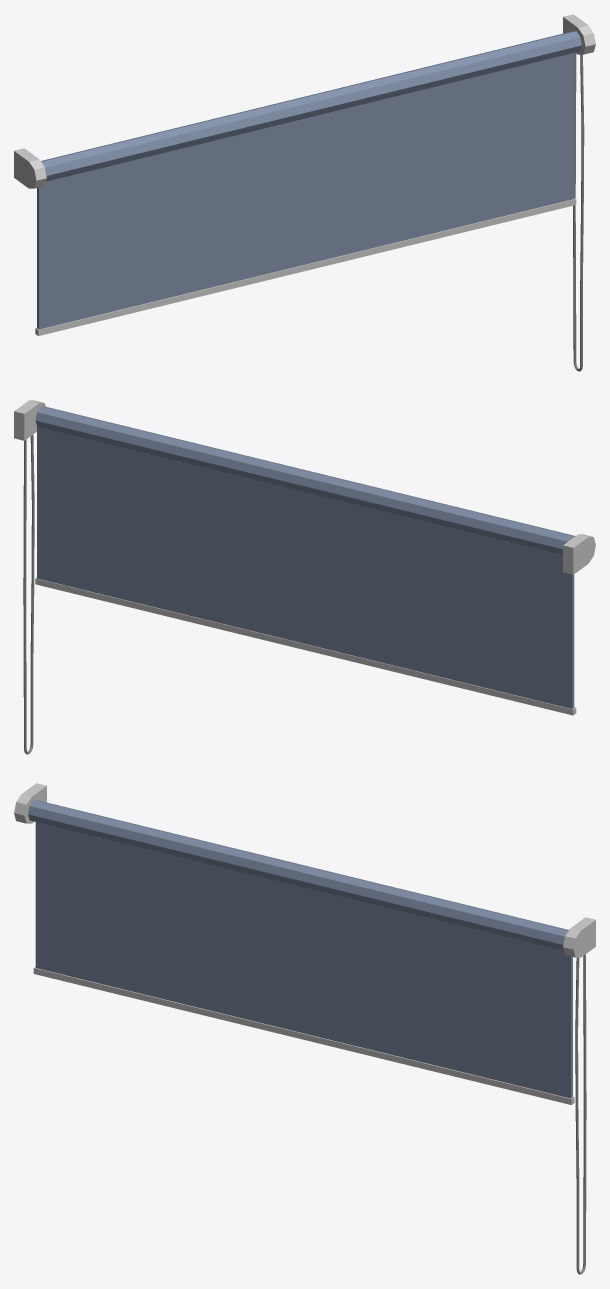
File: Curtains5_C1.fbx
3 renders of one model, top to bottom at view 1: azimuth 30°, elevation 25°; view 2: azimuth 150°, elevation 25°; view 3: azimuth 330°, elevation 25°, orthographic.
Visible parts, largest first — view 1: Curtains5_C1; view 2: Curtains5_C1; view 3: Curtains5_C1.
Boxes of the visible parts, x1=… form: Curtains5_C1: x1=14, y1=14, x2=595, y2=371; Curtains5_C1: x1=14, y1=400, x2=595, y2=754; Curtains5_C1: x1=14, y1=783, x2=595, y2=1274.
Bounding box in the file's own units: 137 × 81.55 × 9.55.
